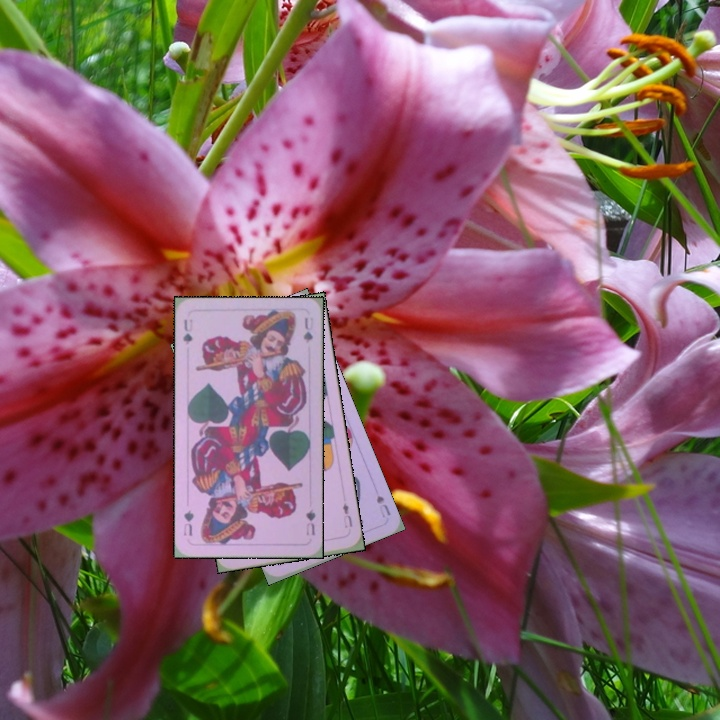EU: (339, 499, 355, 530)
GU: (302, 505, 318, 537), (179, 315, 195, 347)
SU: (372, 491, 393, 520)
